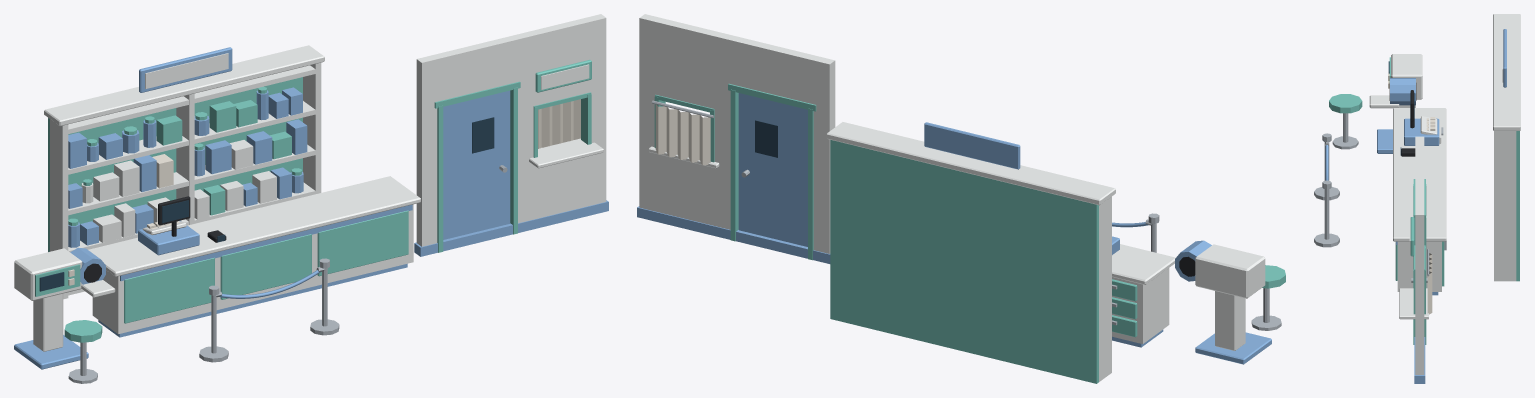
The model's file is pharmacy-counter.glb.
The picture shows the model from 3 angles, left to right: view 1: azimuth 30°, elevation 25°; view 2: azimuth 150°, elevation 25°; view 3: azimuth 270°, elevation 25°; orthographic projection. The views are drawn at different scales.
Parts seen in each view (by area): view 1: Consult_Wall, Counter_Top, Door_Consult, Shelf_Back, Shelf_Cap, Counter_Body, Counter_FrontPanel_2, Counter_FrontPanel_1, Counter_FrontPanel_3, Shelf_Board_4, Shelf_Side_-8, Consult_Base (+43 smaller); view 2: Shelf_Back, Consult_Wall, Door_Consult, Shelf_Cap, BP_Head, Curtain_Window, Shelf_Sign, Shelf_Side_-8, Counter_Body, Consult_Base, Counter_Top, BP_Column (+5 smaller); view 3: Counter_Top, Shelf_Side_6, Shelf_Cap, Consult_Wall, Counter_Body, BP_Head, BP_CuffTube, Register_Housing, Shelf_Back, Window_Ledge, BP_Stool_Seat, BP_Base (+13 smaller).
Boxes of the visible parts, left/top/right/bottom form: Consult_Wall: left=416, top=14, right=606, bottom=246; Counter_Top: left=88, top=176, right=420, bottom=276; Door_Consult: left=443, top=90, right=510, bottom=239; Shelf_Back: left=48, top=77, right=302, bottom=251; Shelf_Cap: left=44, top=45, right=324, bottom=126; Counter_Body: left=92, top=204, right=413, bottom=334; Counter_FrontPanel_2: left=220, top=234, right=311, bottom=299; Counter_FrontPanel_1: left=124, top=257, right=214, bottom=323; Counter_FrontPanel_3: left=317, top=210, right=408, bottom=276; Shelf_Board_4: left=68, top=65, right=315, bottom=133; Shelf_Side_-8: left=50, top=119, right=68, bottom=299; Consult_Base: left=414, top=200, right=608, bottom=256; Shelf_Back: left=830, top=140, right=1098, bottom=383; Consult_Wall: left=639, top=14, right=835, bottom=253; Door_Consult: left=738, top=93, right=807, bottom=246; Shelf_Cap: left=826, top=122, right=1115, bottom=205; BP_Head: left=1195, top=244, right=1265, bottom=298; Curtain_Window: left=655, top=104, right=710, bottom=165; Shelf_Sign: left=924, top=122, right=1020, bottom=169; Shelf_Side_-8: left=1099, top=196, right=1111, bottom=381; Counter_Body: left=1112, top=268, right=1169, bottom=343; Consult_Base: left=637, top=206, right=830, bottom=263; Counter_Top: left=1112, top=244, right=1175, bottom=284; BP_Column: left=1215, top=291, right=1245, bottom=350; Counter_Top: left=1393, top=108, right=1446, bottom=241; Shelf_Side_6: left=1494, top=131, right=1516, bottom=281; Shelf_Cap: left=1493, top=14, right=1520, bottom=130; Consult_Wall: left=1415, top=136, right=1424, bottom=374; Counter_Body: left=1397, top=241, right=1441, bottom=291; BP_Head: left=1391, top=54, right=1422, bottom=99; BP_CuffTube: left=1390, top=78, right=1415, bottom=105; Register_Housing: left=1404, top=118, right=1439, bottom=145; Shelf_Back: left=1516, top=131, right=1519, bottom=281; Window_Ledge: left=1399, top=288, right=1428, bottom=319; BP_Stool_Seat: left=1329, top=94, right=1362, bottom=113; BP_Base: left=1377, top=129, right=1392, bottom=153.
Size of the model in its own units: 32 by 10.6 by 11.15.
